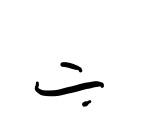div: (35, 62, 101, 109)
